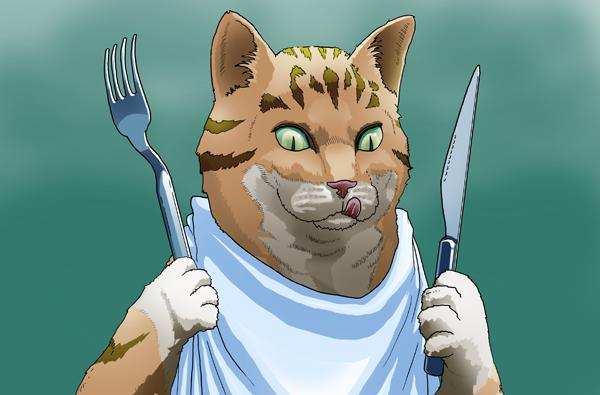cat: (70, 13, 541, 395)
